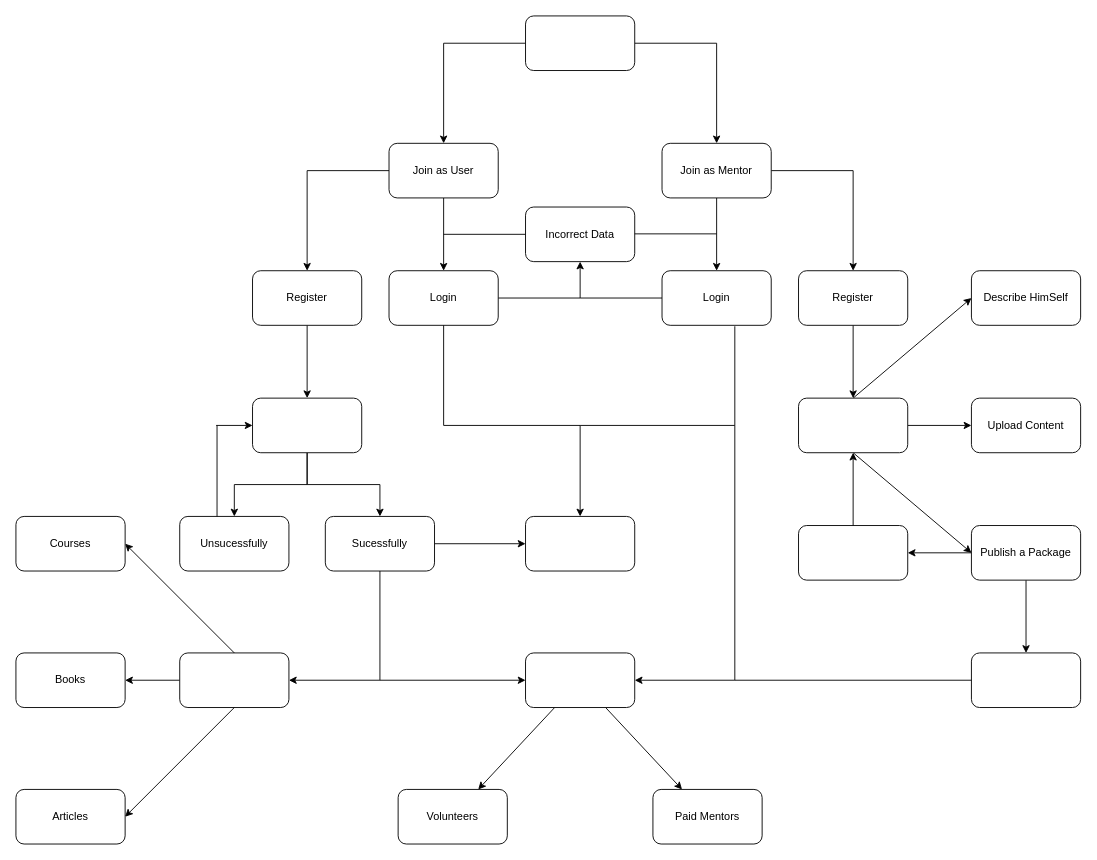
Some shapes in this 1097 by 860 pixel diagram are drawn without their labels. Each missing label, with the box of its shape:
Create Profile: (798, 397, 908, 453)
Form Filling: (252, 397, 362, 453)
Home Page: (525, 15, 635, 71)
Mentor Page: (525, 652, 635, 708)
News Page: (525, 516, 635, 571)
Profil Created: (971, 652, 1081, 708)
Profile Uncreated: (798, 525, 908, 580)
Resources Page: (179, 652, 289, 708)
